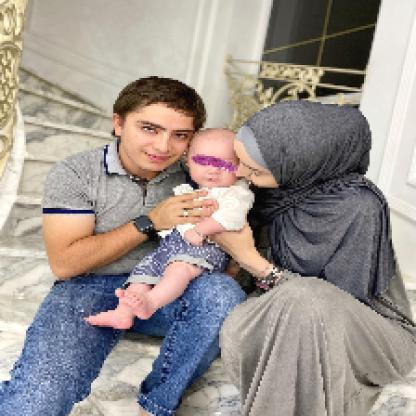child: (83, 126, 256, 331)
